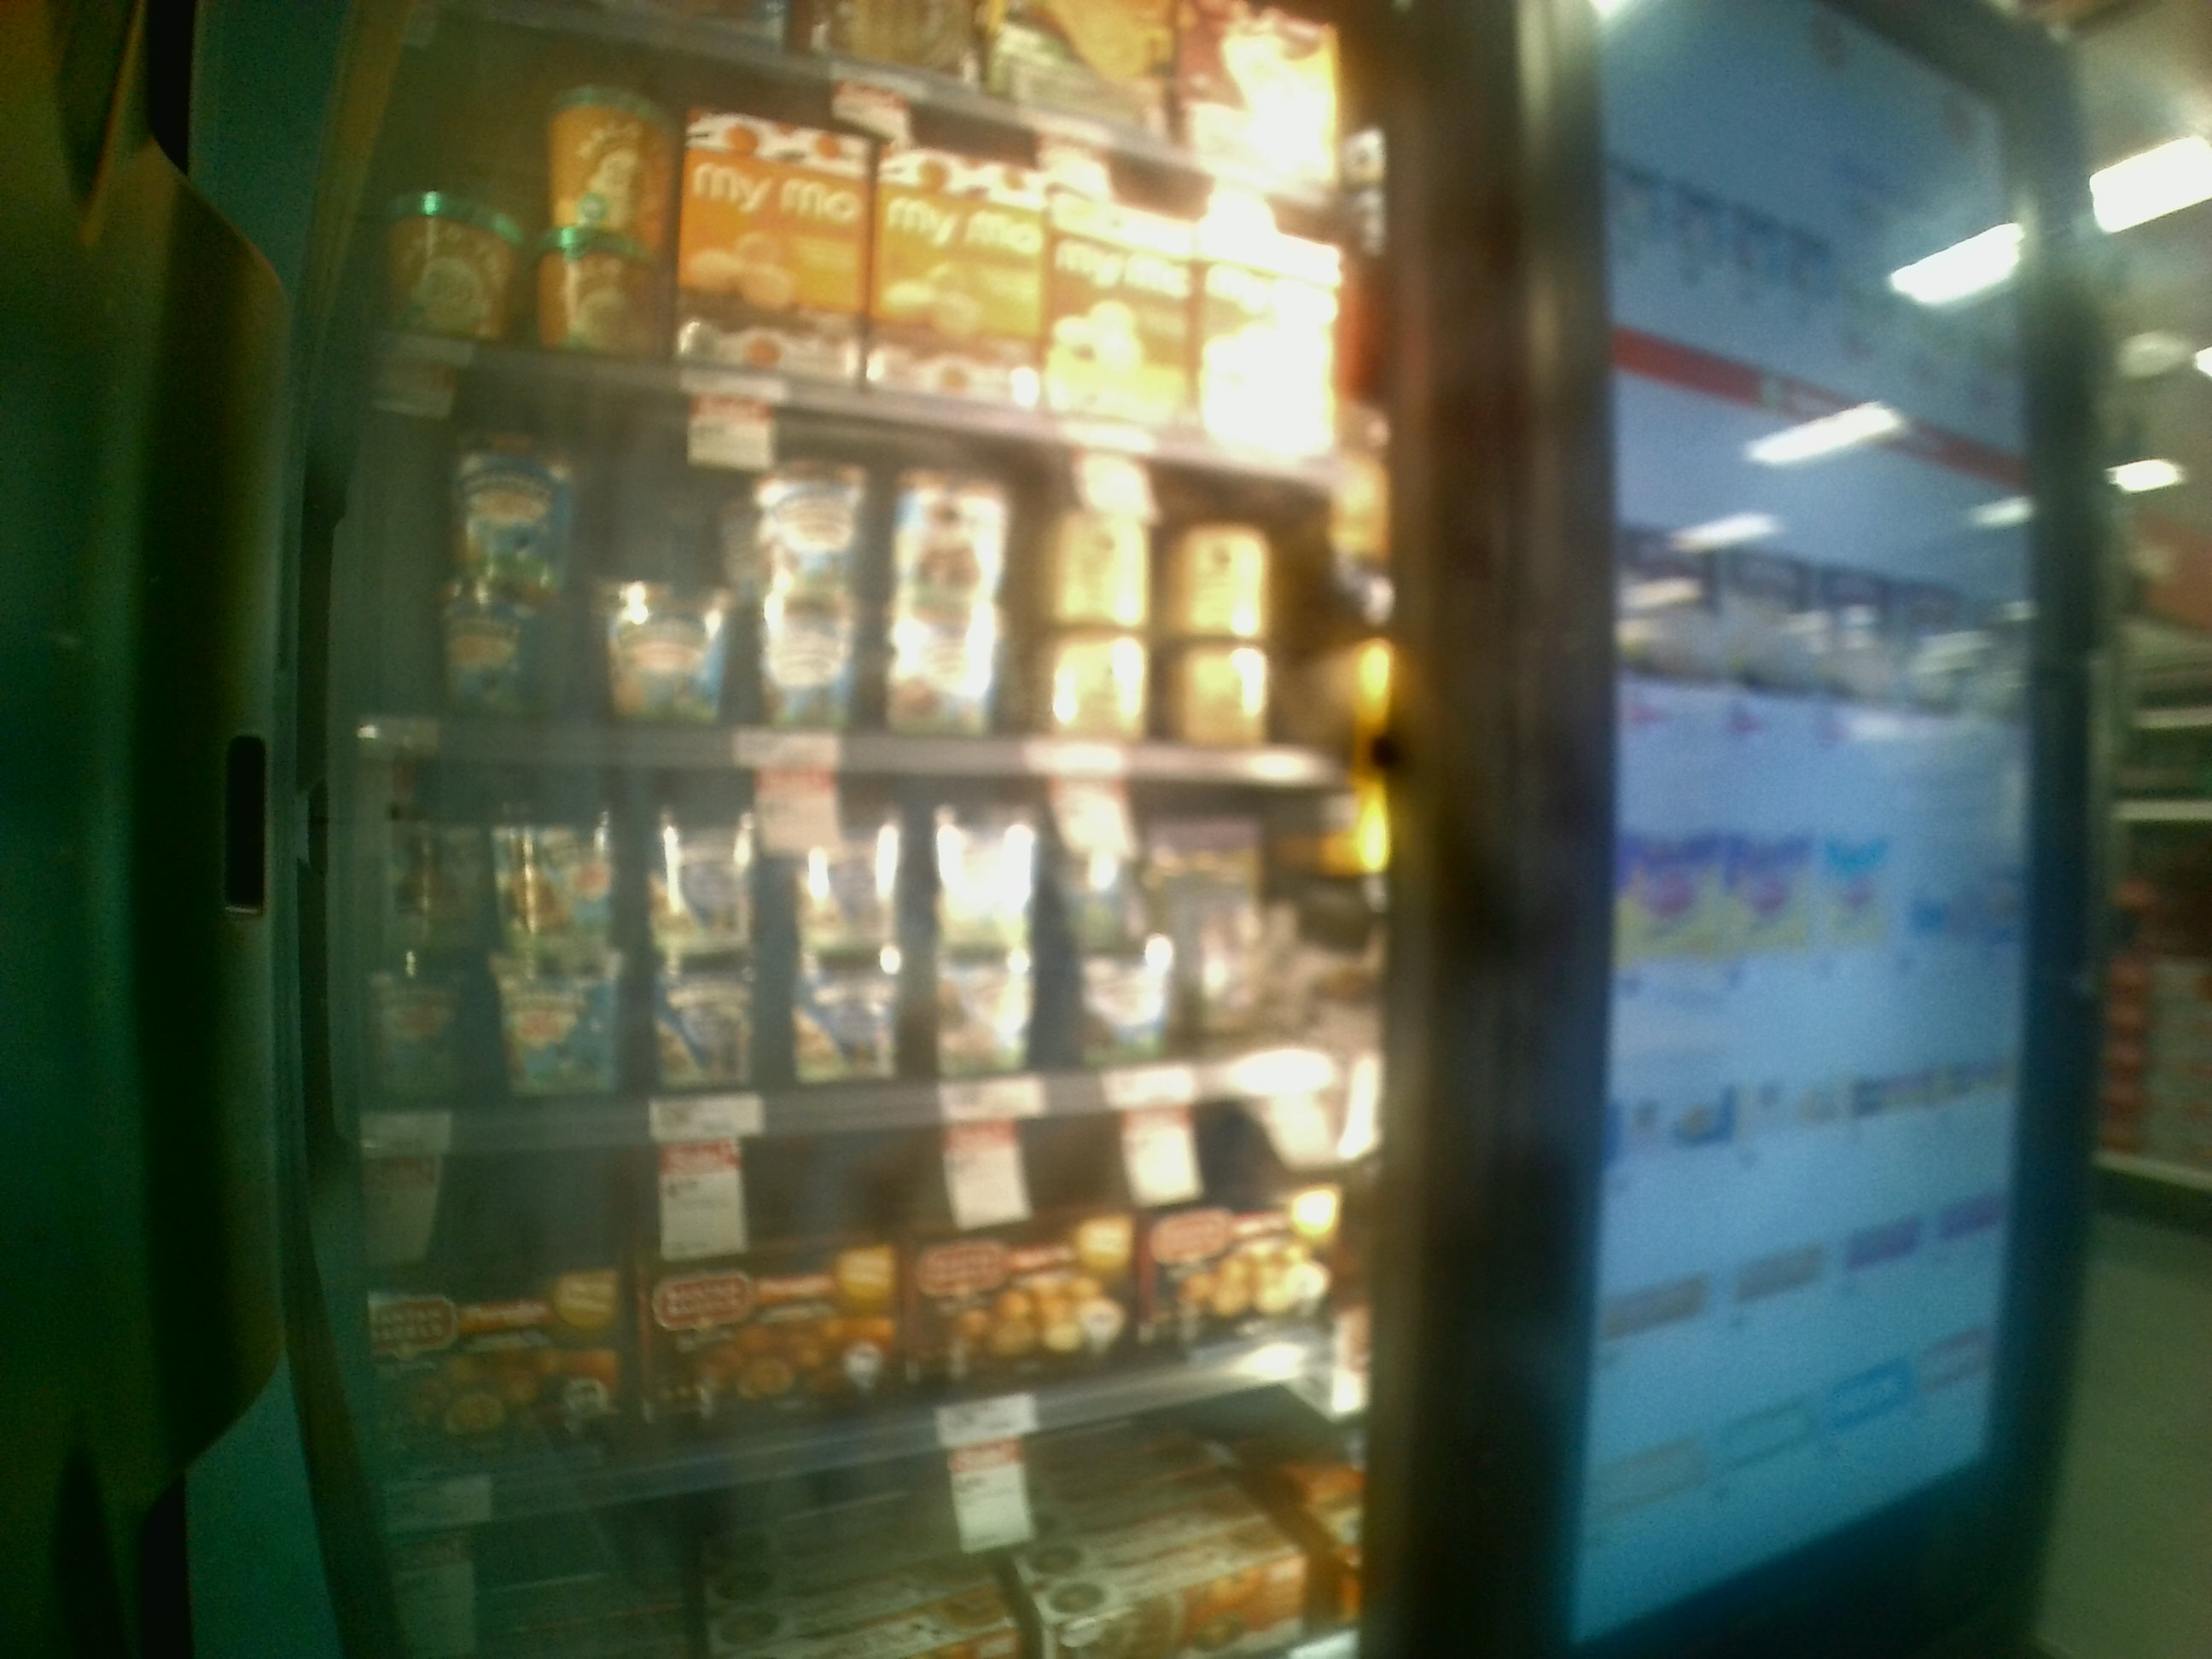shelf: (361, 369, 1395, 786), (345, 760, 1416, 1145), (338, 1150, 1390, 1500)
